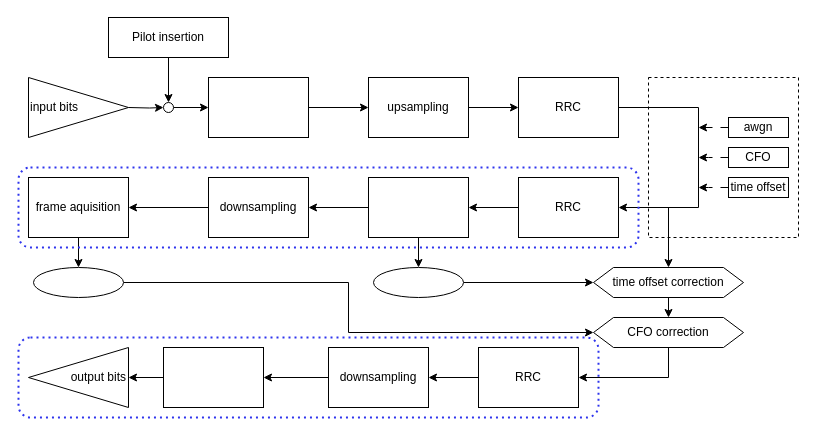
This 816x436 diagram has some shape labels left out. Here are the shapes that lost their labels. From the top down, the box of each, then its label:
(208, 76, 308, 138): mapping
(648, 76, 798, 238): wave propagation
(17, 166, 639, 248): First pass
(368, 176, 468, 238): Gardner algorithm
(32, 266, 124, 298): CFO estimate
(372, 266, 464, 298): time offset estimate
(162, 346, 264, 408): demapping
(17, 336, 599, 418): Second pass
